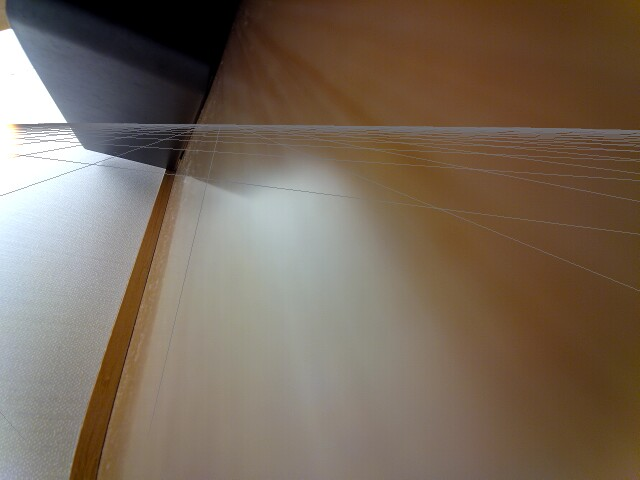fire: (0, 109, 28, 189)
